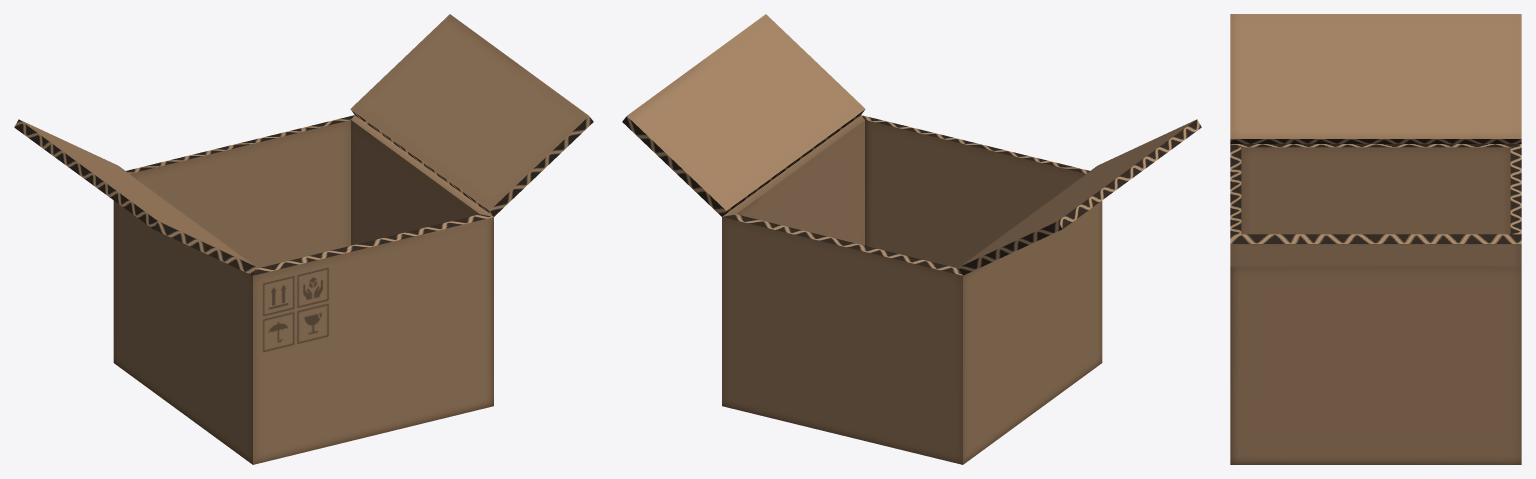
Rendered from open_cardboard_clean.glb.
The picture shows the model from 3 angles, left to right: view 1: azimuth 30°, elevation 25°; view 2: azimuth 150°, elevation 25°; view 3: azimuth 270°, elevation 25°; orthographic projection. The views are drawn at different scales.
Visible parts, largest first — view 1: Cube_0; view 2: Cube_0; view 3: Cube_0.
Boxes of the visible parts, left/top/right/bottom form: Cube_0: left=14, top=14, right=593, bottom=464; Cube_0: left=622, top=14, right=1201, bottom=464; Cube_0: left=1230, top=14, right=1521, bottom=464.
Bounding box in the file's own units: 3.65 × 2.12 × 2.
Materials: 1 (1 with a texture image).
